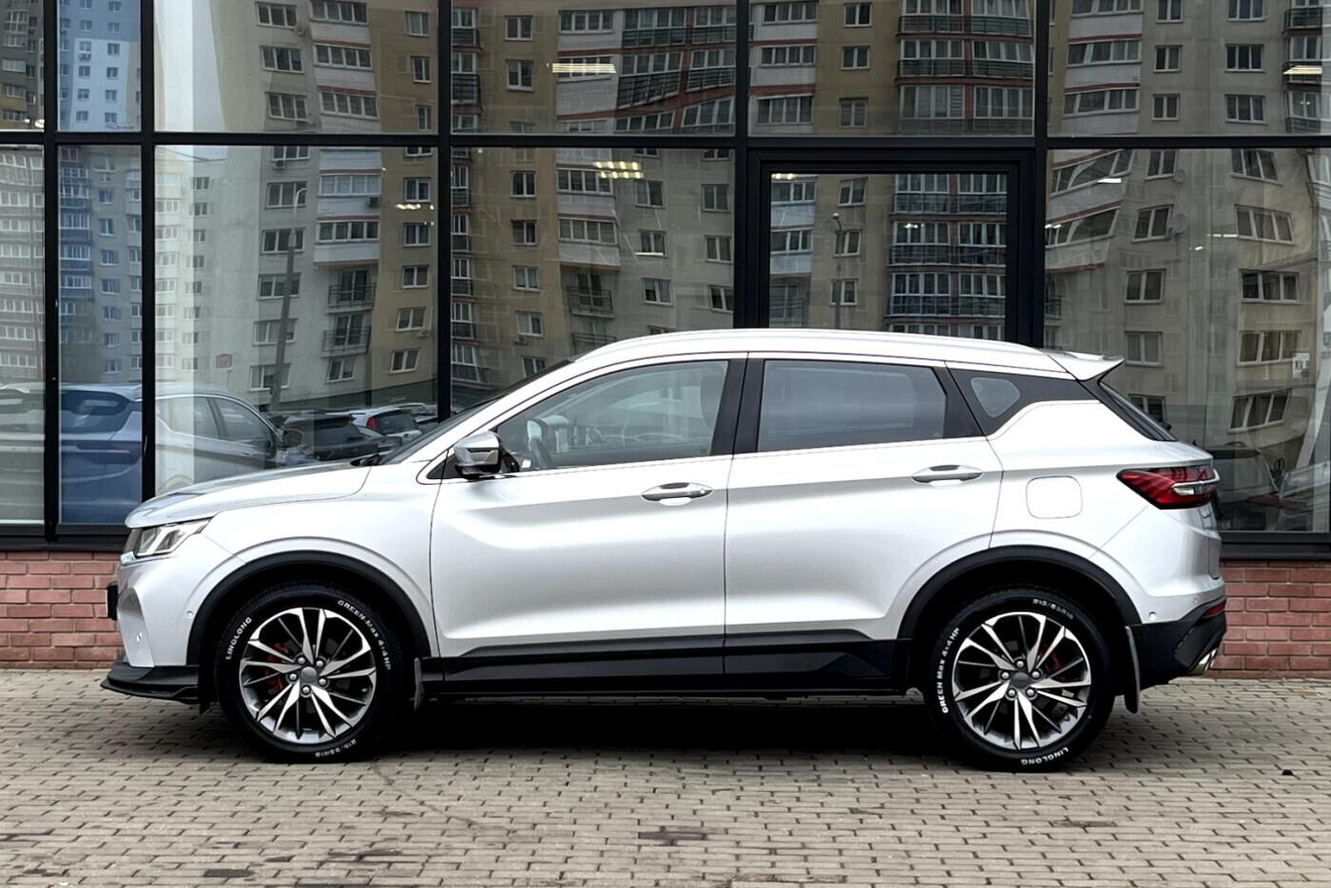Coolray_2019-2023: (95, 311, 1234, 774)
